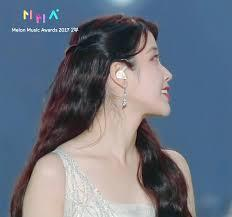earphone: (109, 70, 127, 82)
